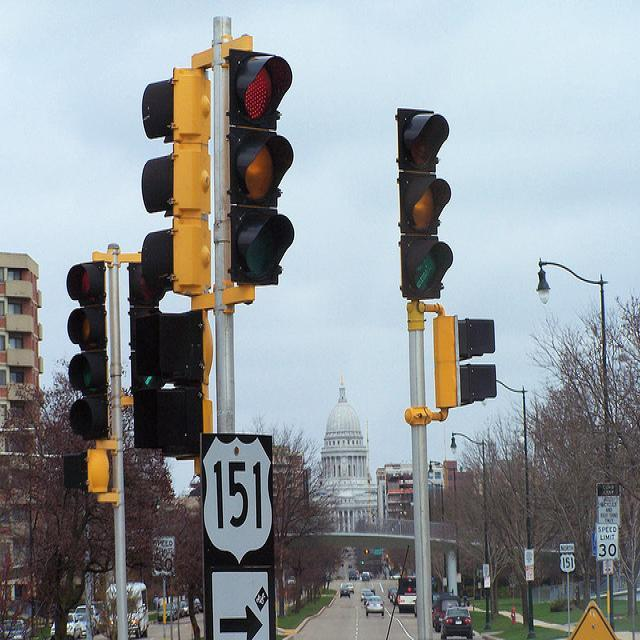fire_hydrant: (510, 605, 516, 624)
